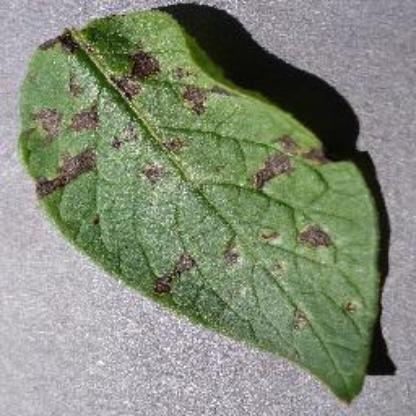Early-Blight: (22, 7, 390, 405)
